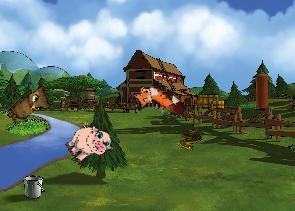fox: (126, 73, 188, 132)
owl: (4, 81, 57, 133)
pig: (60, 116, 116, 171)
